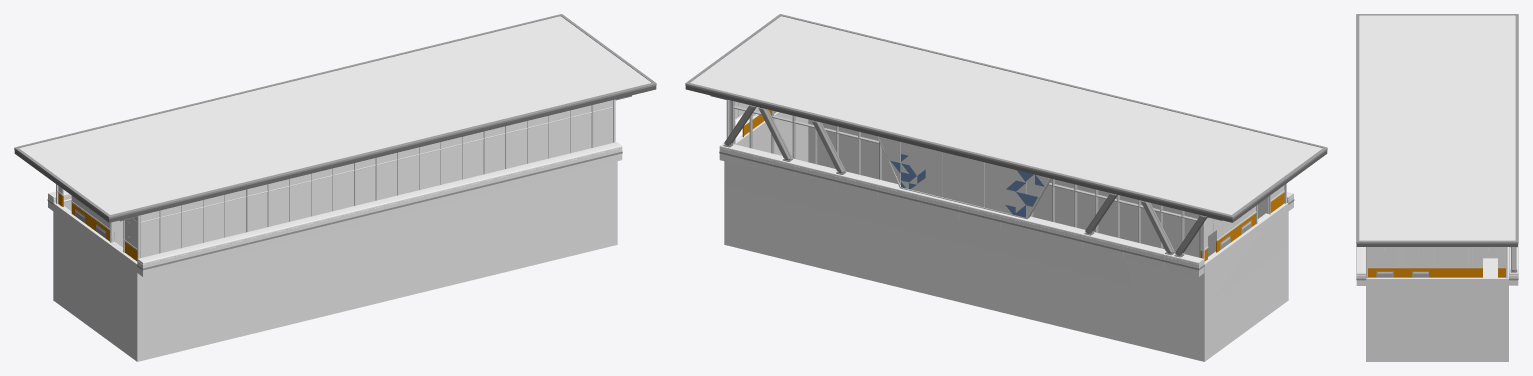
3 views of the same model, side by side, from view 1: azimuth 30°, elevation 25°; view 2: azimuth 150°, elevation 25°; view 3: azimuth 270°, elevation 25° (orthographic). The views are drawn at different scales.
Visible parts, largest first — view 1: SM_H_Building_FutureTech_PipeHouse_01_ExterWall_01; view 2: SM_H_Building_FutureTech_PipeHouse_01_ExterWall_01; view 3: SM_H_Building_FutureTech_PipeHouse_01_ExterWall_01.
Boxes of the visible parts, x1,y1,x2,y2 form: SM_H_Building_FutureTech_PipeHouse_01_ExterWall_01: [14, 14, 656, 361]; SM_H_Building_FutureTech_PipeHouse_01_ExterWall_01: [685, 14, 1327, 361]; SM_H_Building_FutureTech_PipeHouse_01_ExterWall_01: [1356, 14, 1518, 361].
Bounding box in the file's own units: 742 × 2466 × 677.
